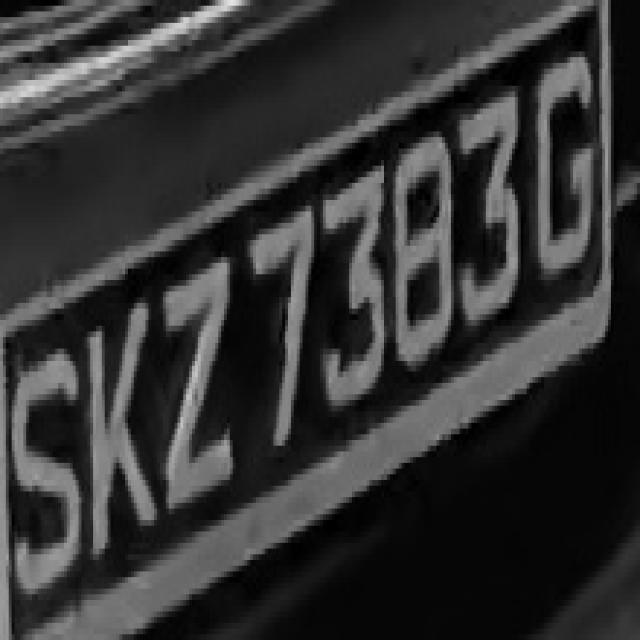3: (306, 148, 396, 412), (448, 91, 527, 332)
7: (239, 183, 320, 463)
8: (381, 126, 460, 377)
G: (527, 51, 599, 292)
K: (81, 286, 160, 588)
S: (6, 332, 81, 612)
Z: (157, 240, 250, 531)
